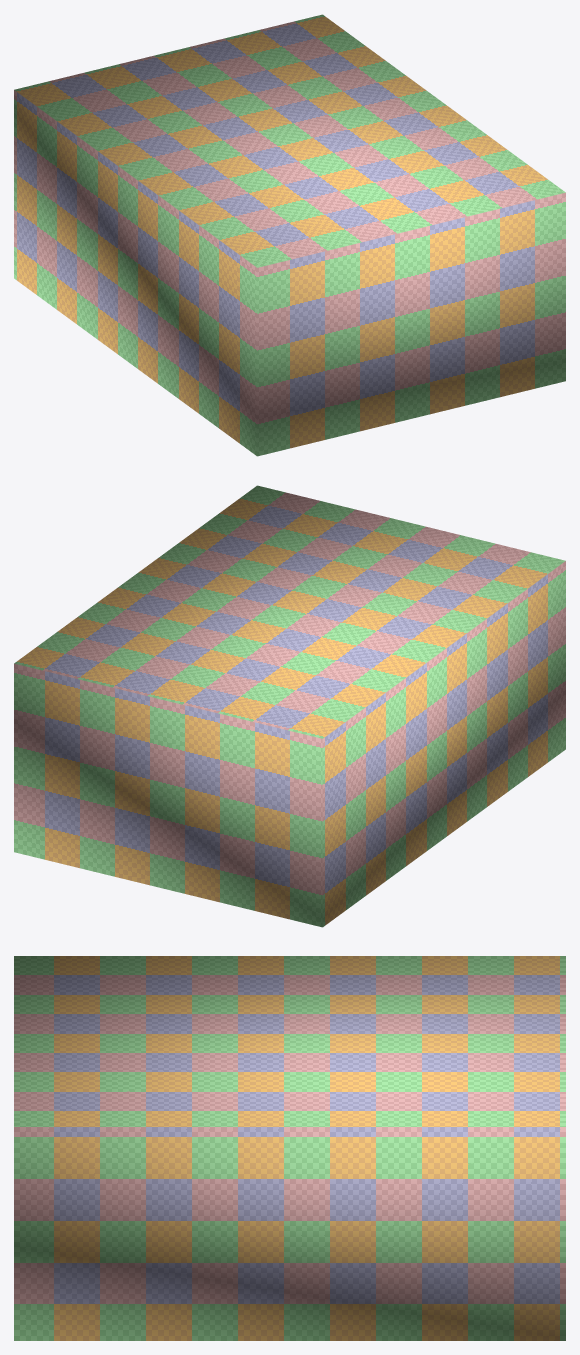
Rendered from room.glb.
3 renders of one model, top to bottom at view 1: azimuth 30°, elevation 25°; view 2: azimuth 150°, elevation 25°; view 3: azimuth 270°, elevation 25°, orthographic. The views are drawn at different scales.
Visible parts, largest first — view 1: Room; view 2: Room; view 3: Room.
Part boxes in pixels (x1=…): Room: x1=14, y1=14, x2=565, y2=456; Room: x1=14, y1=485, x2=565, y2=927; Room: x1=14, y1=956, x2=565, y2=1340.
Bounding box in the file's own units: 4.4 × 2.57 × 6.
1 material, 1 textured.
